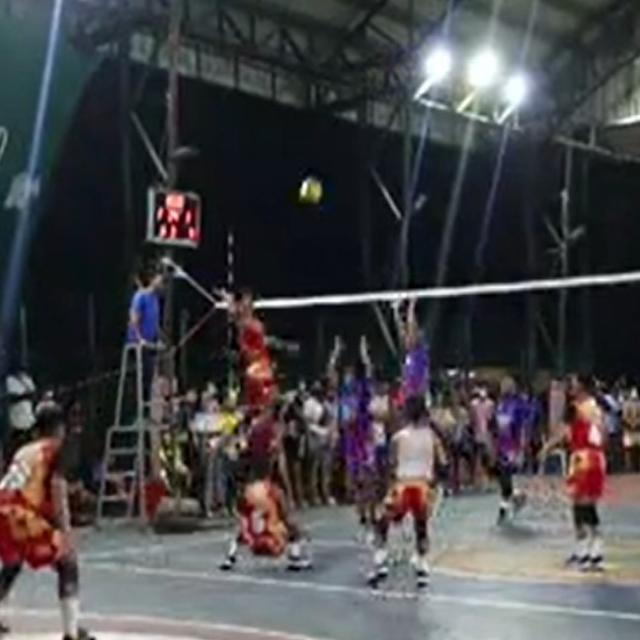volleyball: (302, 180, 321, 202)
